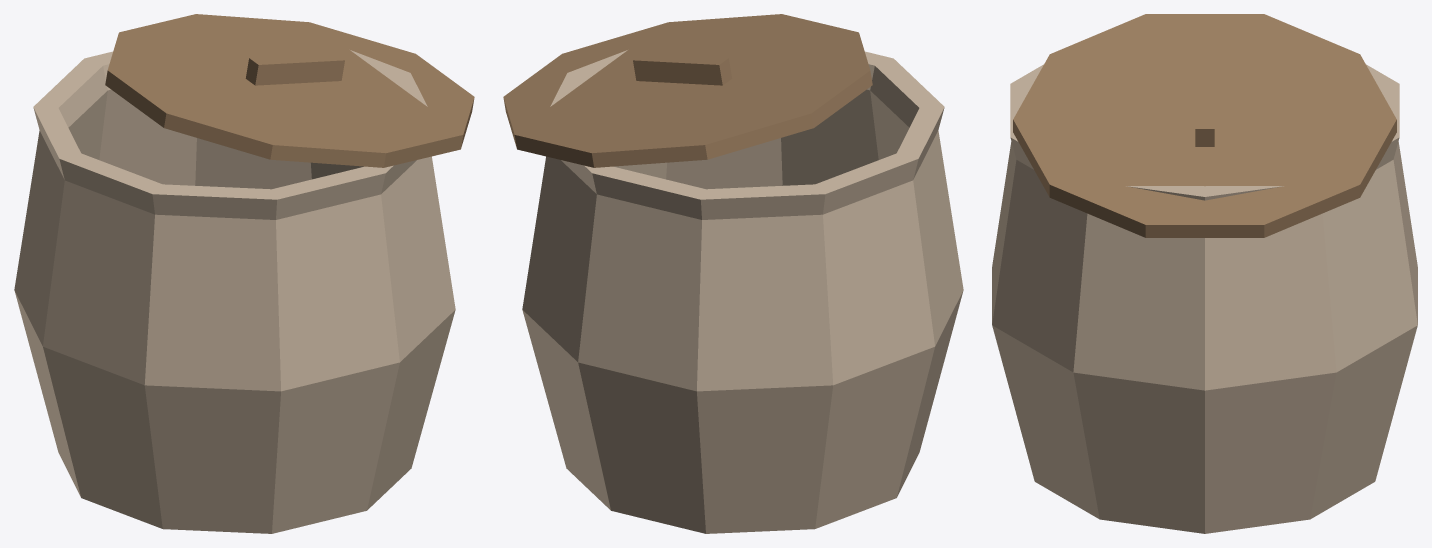
File: prop-fermenting-crock.fbx
3 views of the same model, side by side, from view 1: azimuth 30°, elevation 25°; view 2: azimuth 150°, elevation 25°; view 3: azimuth 270°, elevation 25° (orthographic).
Visible parts, largest first — view 1: prop-fermenting-crock; view 2: prop-fermenting-crock; view 3: prop-fermenting-crock.
Part boxes in pixels (bbox=[...]): prop-fermenting-crock: bbox=[14, 14, 474, 533]; prop-fermenting-crock: bbox=[503, 14, 963, 533]; prop-fermenting-crock: bbox=[992, 14, 1417, 533].
Bounding box in the file's own units: 73.29 × 68.65 × 66.57.
